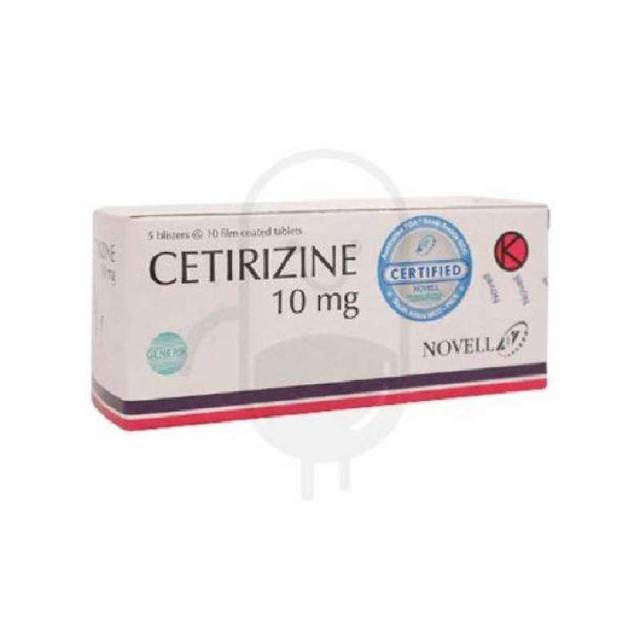drug-name: (148, 244, 366, 286)
